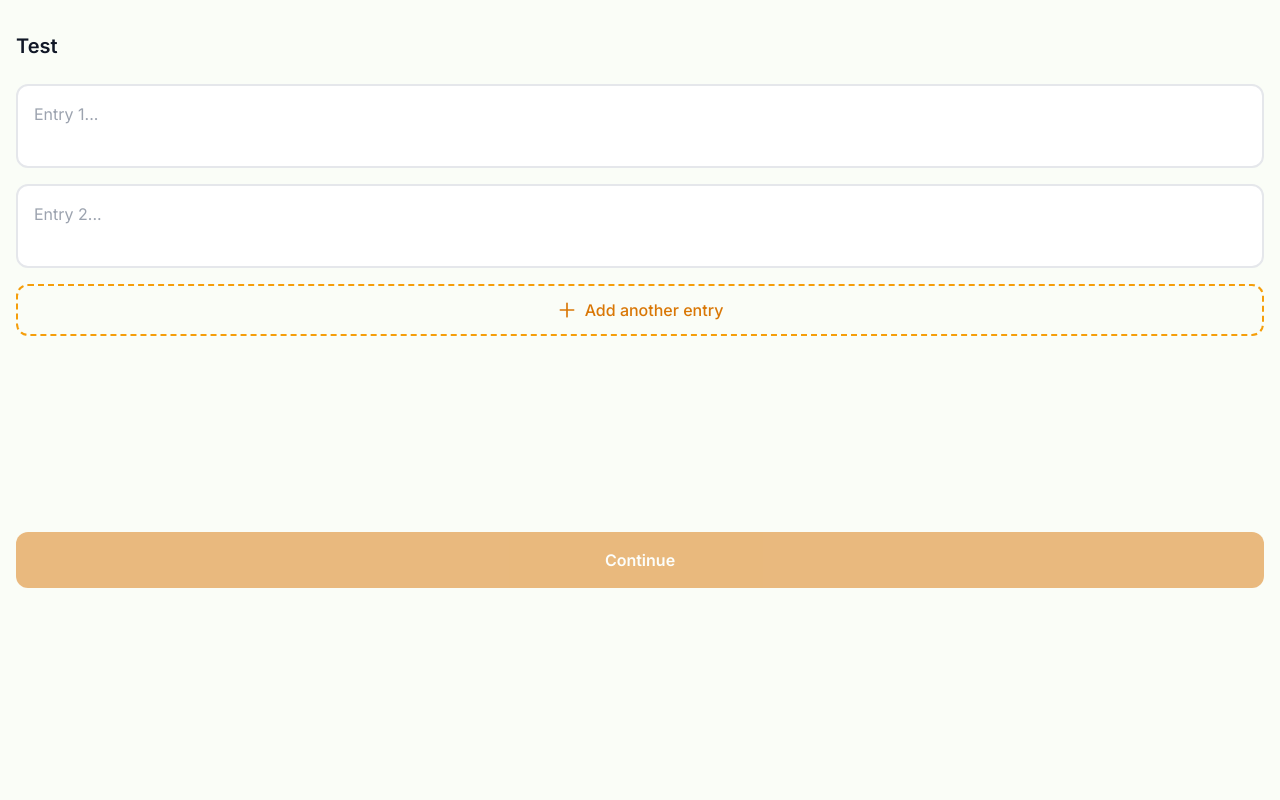
Test case: TextInput › accessibility › remove buttons have accessible labels
Add an entry to show remove buttons
Click the button "Add another entry". click: (640, 310)
box: [16,284,1264,336]
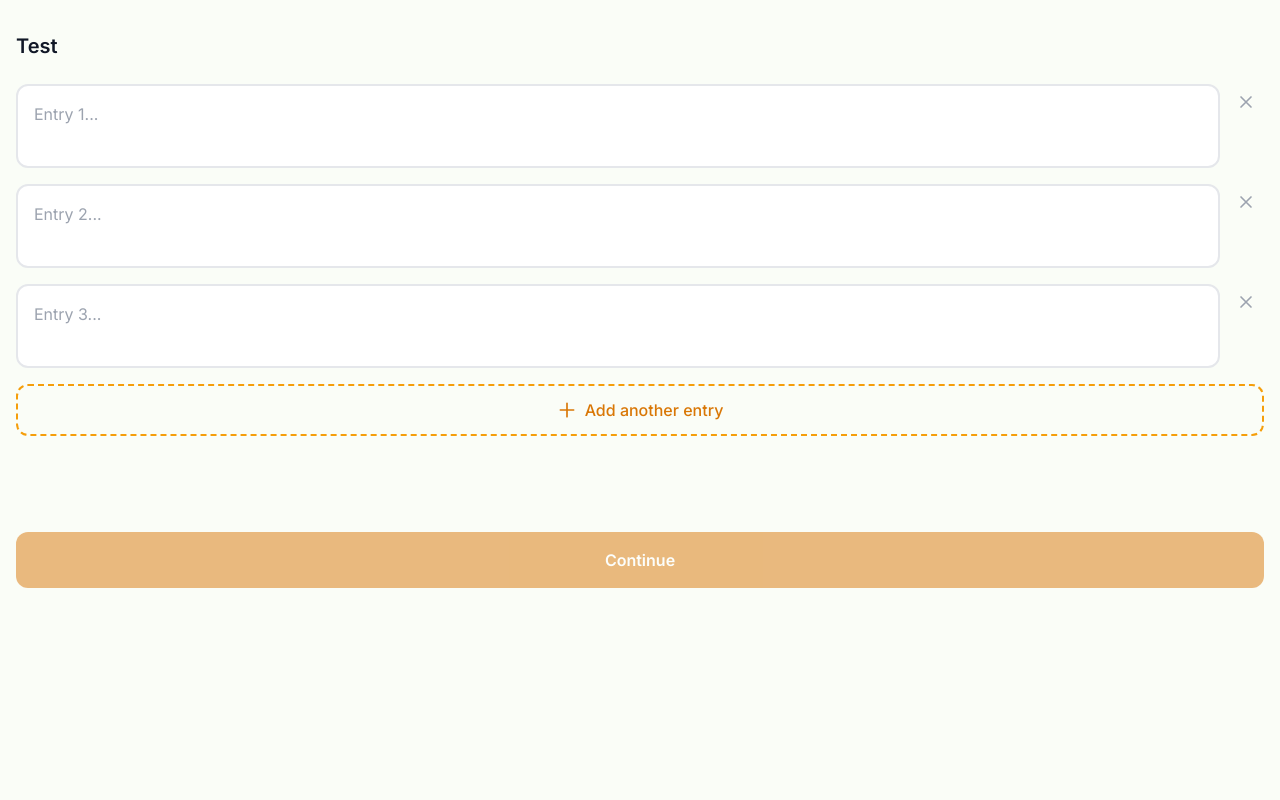
Expected: the button named "Remove entry 1" is shown, [1228,84,1264,120]
Expected: the button named "Remove entry 2" is shown, [1228,184,1264,220]
